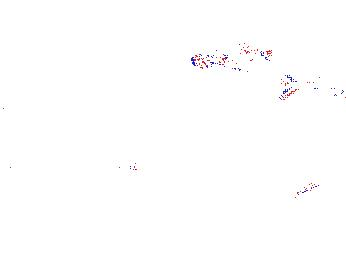glassfish: (278, 169, 346, 209)
redtail glassfish: (188, 40, 275, 70), (280, 69, 346, 101)
